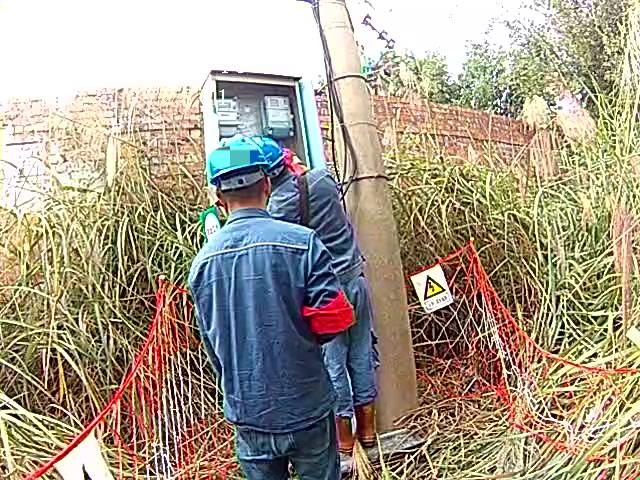halt: (211, 137, 274, 211)
